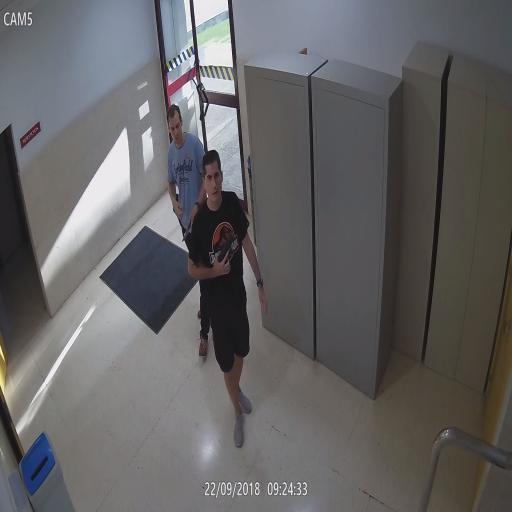Handgun: (215, 233, 234, 277)
